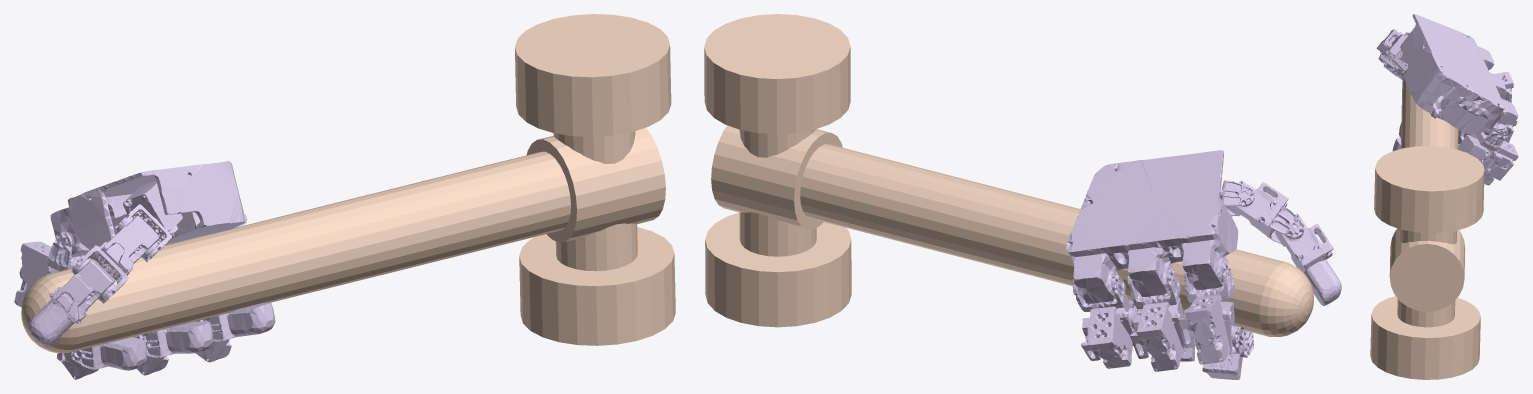
File: 9e5eeed455ebeb-closed.glb
3 renders of one model, left to right at view 1: azimuth 30°, elevation 25°; view 2: azimuth 150°, elevation 25°; view 3: azimuth 270°, elevation 25°, orthographic. The views are drawn at different scales.
Parts seen in each view (by area): view 1: world, LEAP_hand; view 2: world, LEAP_hand; view 3: world, LEAP_hand.
Boxes of the visible parts, box(x1,y1,x2,y2) form: world: box(21, 14, 675, 353); LEAP_hand: box(14, 161, 275, 379); world: box(704, 14, 1313, 336); LEAP_hand: box(1066, 150, 1341, 379); world: box(1370, 69, 1484, 379); LEAP_hand: box(1376, 14, 1518, 185).
Bounding box in the file's own units: 0.5505 × 0.2189 × 0.1545.
